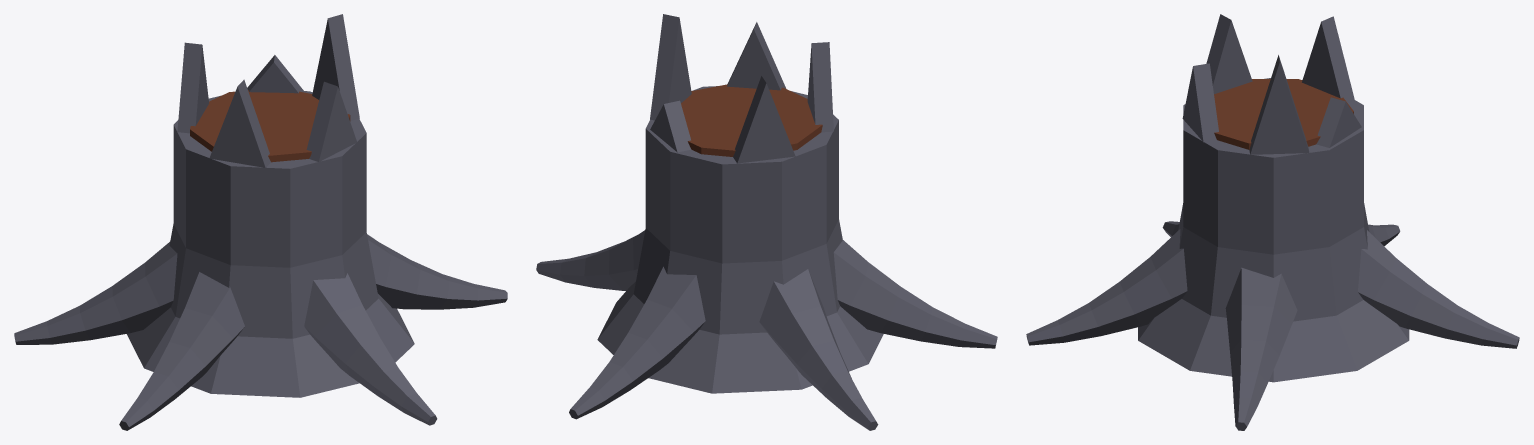
The model's file is stump.glb.
3 renders of one model, left to right at view 1: azimuth 30°, elevation 25°; view 2: azimuth 150°, elevation 25°; view 3: azimuth 270°, elevation 25°, orthographic. The views are drawn at different scales.
Visible parts, largest first — view 1: stump; view 2: stump; view 3: stump.
Boxes of the visible parts, left/top/right/bottom form: stump: left=14, top=14, right=507, bottom=430; stump: left=536, top=14, right=997, bottom=430; stump: left=1026, top=14, right=1519, bottom=430.
Size of the model in its own units: 0.8035 by 0.5593 by 0.8308.
